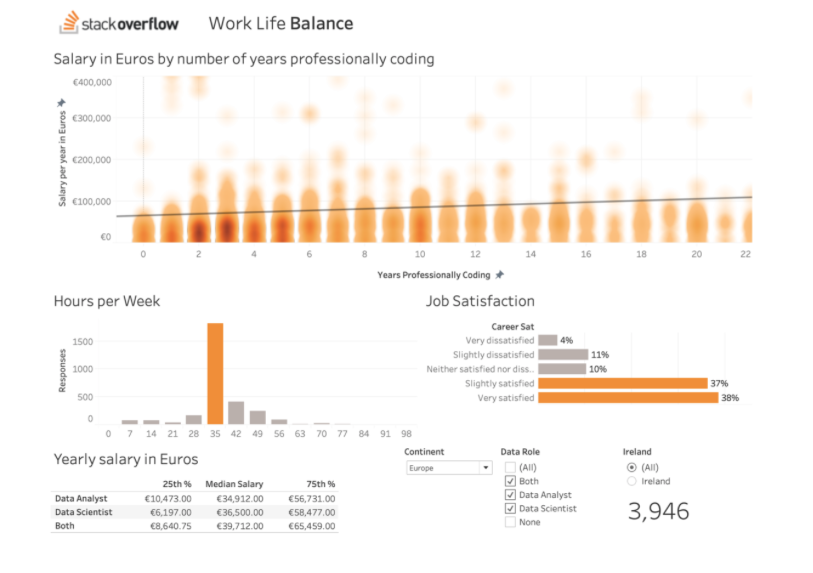

This screenshot's page, from the dashboard's own definition file:
{"tool":"tableau","page":{"name":"4. Work Life","canvas":[1000,800],"ordinal":3},"visuals":[{"type":"image","param":"/Users/barrysheppard/Github/B8IT107DataVis/images/stack_overflow.png","box":[8,8,217,55]},{"type":"title","box":[225,8,767,55]},{"type":"worksheet","title":"Comp 2","mark":"Heatmap","rows":["Calculation_6438458626135920647"],"cols":["Calculation_6438458626146230283"],"box":[8,63,984,337]},{"type":"worksheet","title":"Hours per Week","mark":"Automatic","rows":["Number of Records"],"cols":["Work Week Hrs (bin) 2"],"box":[8,400,518,220]},{"type":"worksheet","title":"Satisfaction","mark":"Automatic","rows":["CareerSat"],"cols":["Respondent"],"box":[526,400,466,220]},{"type":"worksheet","title":"Mean Comp","mark":"Automatic","rows":["data_role"],"box":[8,620,492,172]},{"type":"filter","title":"Comp 2","param":"[federated.1a2aqu8180pfx518255rt1lipdfz].[none:continent:nk]","box":[500,620,134,86]},{"type":"filter","title":"Comp 2","param":"[federated.1a2aqu8180pfx518255rt1lipdfz].[Action (data_role)]","box":[634,620,170,172]},{"type":"filter","title":"Satisfaction","param":"[federated.1a2aqu8180pfx518255rt1lipdfz].[none:Ireland:nk]","box":[804,620,188,67]},{"type":"worksheet","title":"Total Number","mark":"Automatic","box":[804,687,188,105]},{"type":"blank","box":[500,706,134,86]}]}

Visuals, with their boxes on the page's 1000x800 design canvas (x1, y1, x2, y2). These are canvas units, not pixel positions in the 813x573 screenshot, which may show the page scaled, cropped or inside an application window:
image: <box>8,8,225,63</box>
title: <box>225,8,992,63</box>
"Comp 2" worksheet (Heatmap marks): <box>8,63,992,400</box>
"Hours per Week" worksheet: <box>8,400,526,620</box>
"Satisfaction" worksheet: <box>526,400,992,620</box>
"Mean Comp" worksheet: <box>8,620,500,792</box>
"Comp 2" filter: <box>500,620,634,706</box>
"Comp 2" filter: <box>634,620,804,792</box>
"Satisfaction" filter: <box>804,620,992,687</box>
"Total Number" worksheet: <box>804,687,992,792</box>
blank: <box>500,706,634,792</box>
